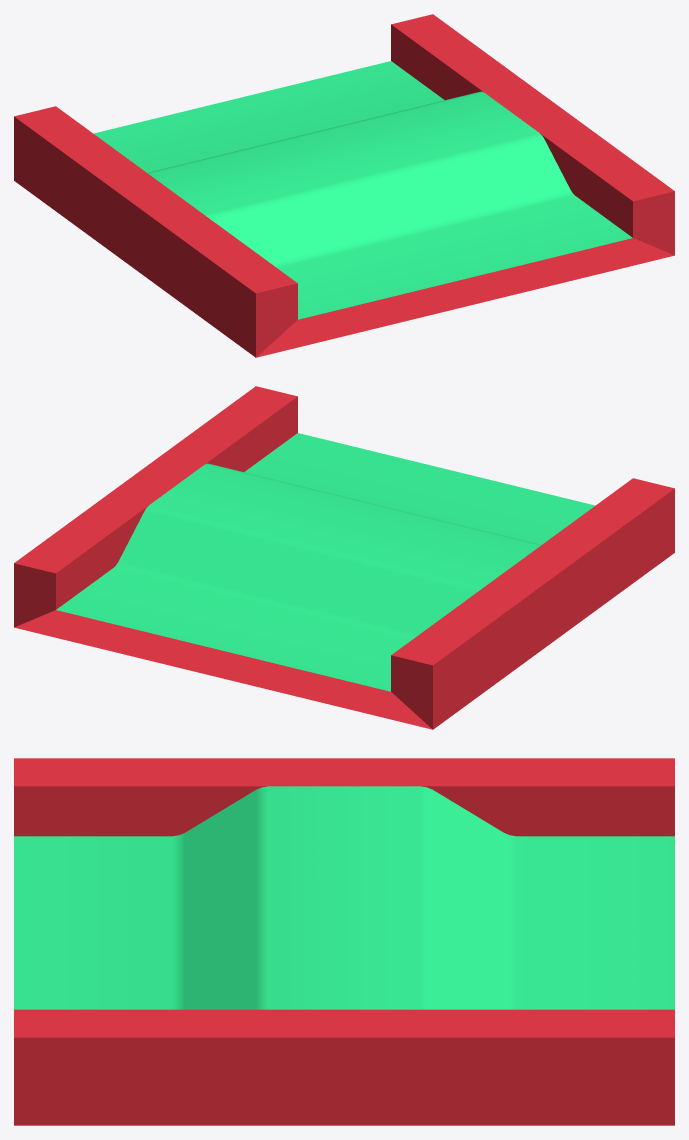
Rendered from hillSquare.fbx.
3 views of the same model, one above another, from view 1: azimuth 30°, elevation 25°; view 2: azimuth 150°, elevation 25°; view 3: azimuth 270°, elevation 25° (orthographic). The views are drawn at different scales.
Parts seen in each view (by area): view 1: hillSquare; view 2: hillSquare; view 3: hillSquare.
Boxes of the visible parts, x1,y1,x2,y2 form: hillSquare: (14,14,674,357); hillSquare: (14,386,674,729); hillSquare: (14,758,674,1125).
Size of the model in its own units: 99.99 by 99.99 by 14.67.
